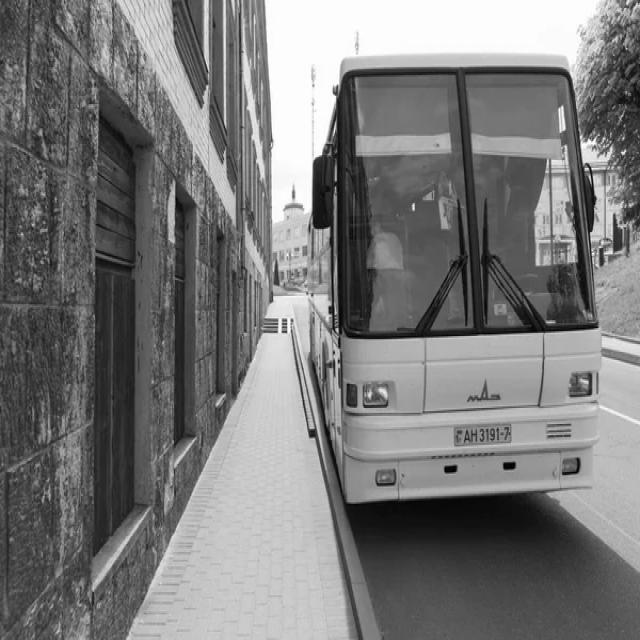Bus: (304, 41, 619, 502)
